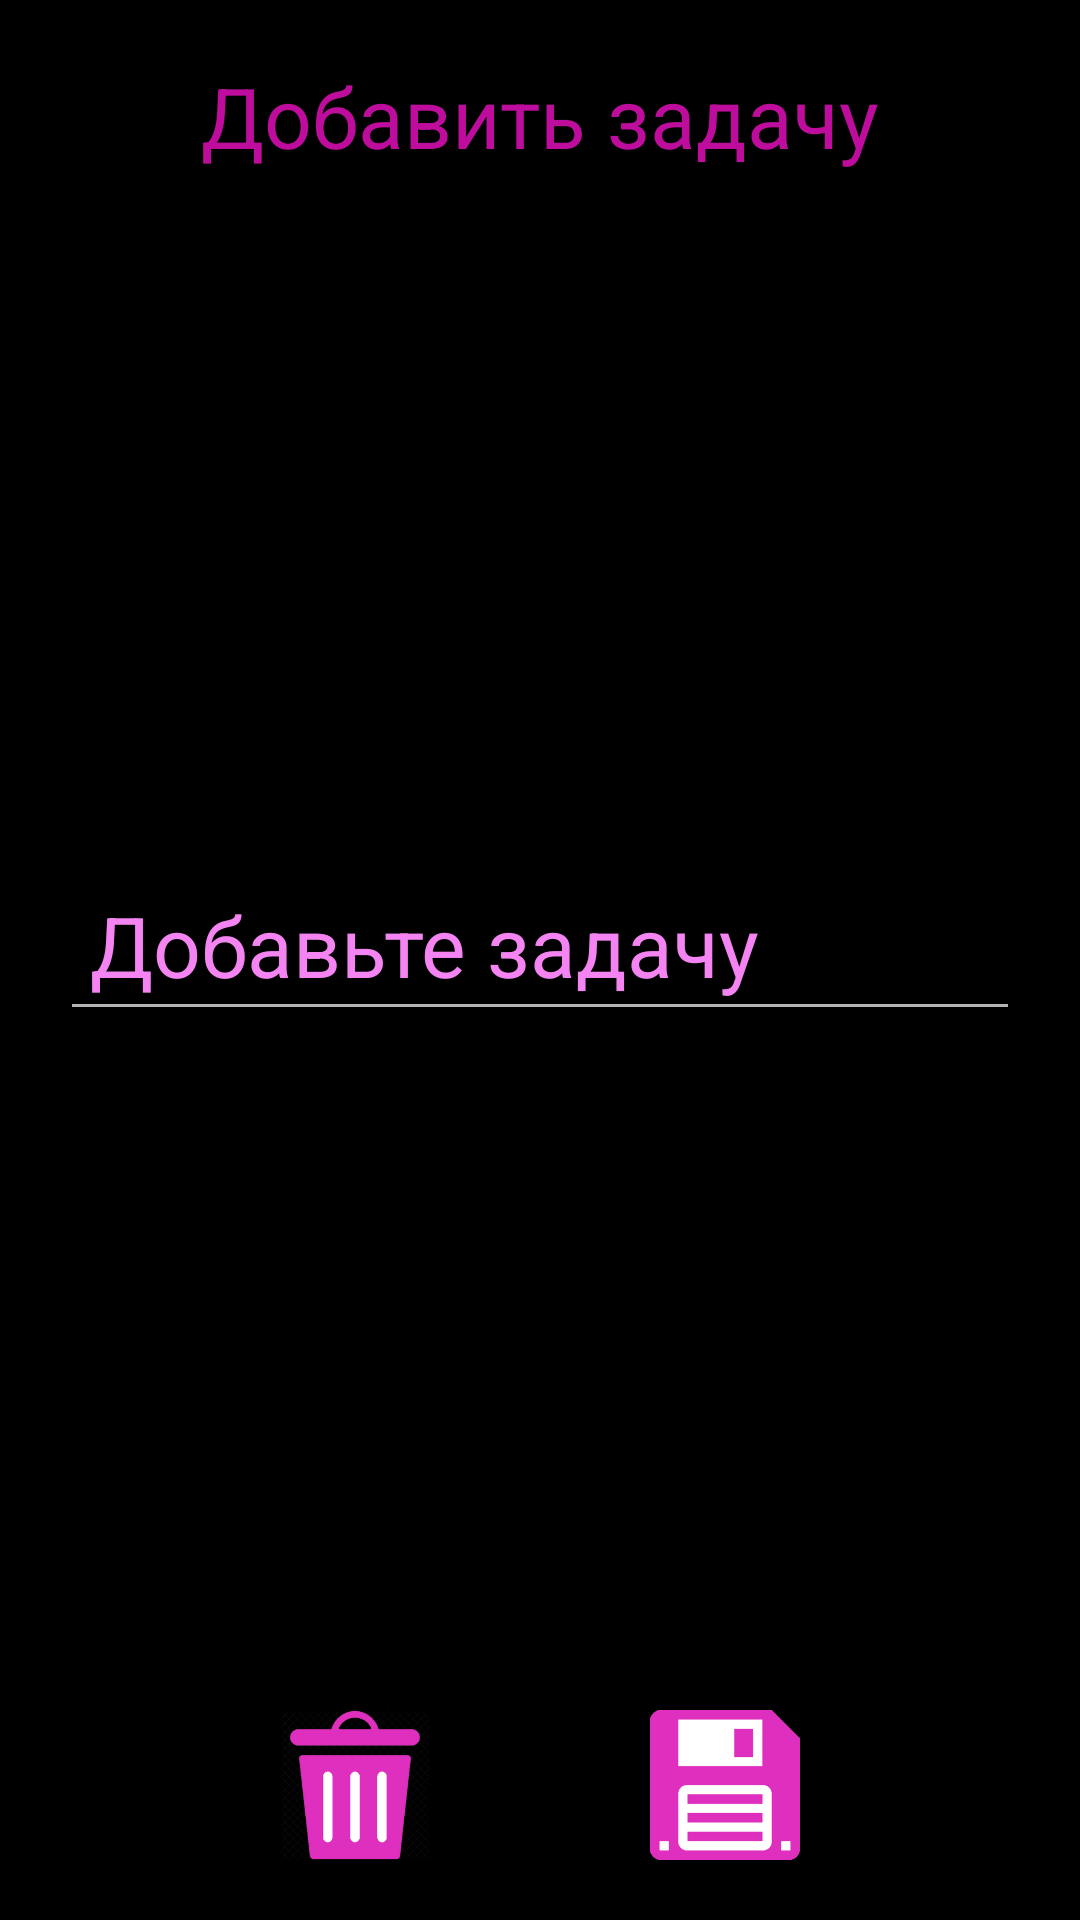

Where icons sit on this 1080w x 1920h app screen, as (left=x1, top=y1, right=x2, bottom=y2):
delete: (left=290, top=1711, right=420, bottom=1859)
save: (left=650, top=1710, right=800, bottom=1860)
